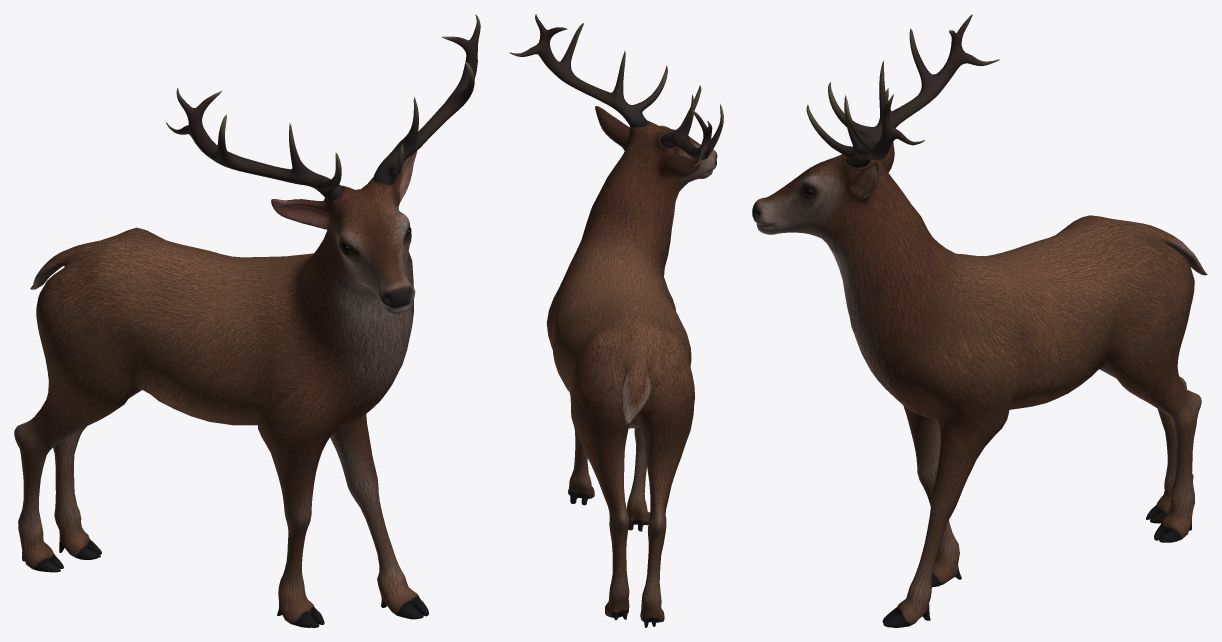
File: deer.gltf
3 renders of one model, left to right at view 1: azimuth 30°, elevation 25°; view 2: azimuth 150°, elevation 25°; view 3: azimuth 270°, elevation 25°, orthographic. The views are drawn at different scales.
Parts seen in each view (by area): view 1: node_id150_0; view 2: node_id150_0; view 3: node_id150_0.
Boxes of the visible parts, bbox=[...] form: node_id150_0: bbox=[14, 14, 480, 627]; node_id150_0: bbox=[509, 14, 723, 627]; node_id150_0: bbox=[752, 14, 1207, 627].
Size of the model in its own units: 0.3002 by 0.512 by 0.3787.
Materials: 1 (1 with a texture image).
